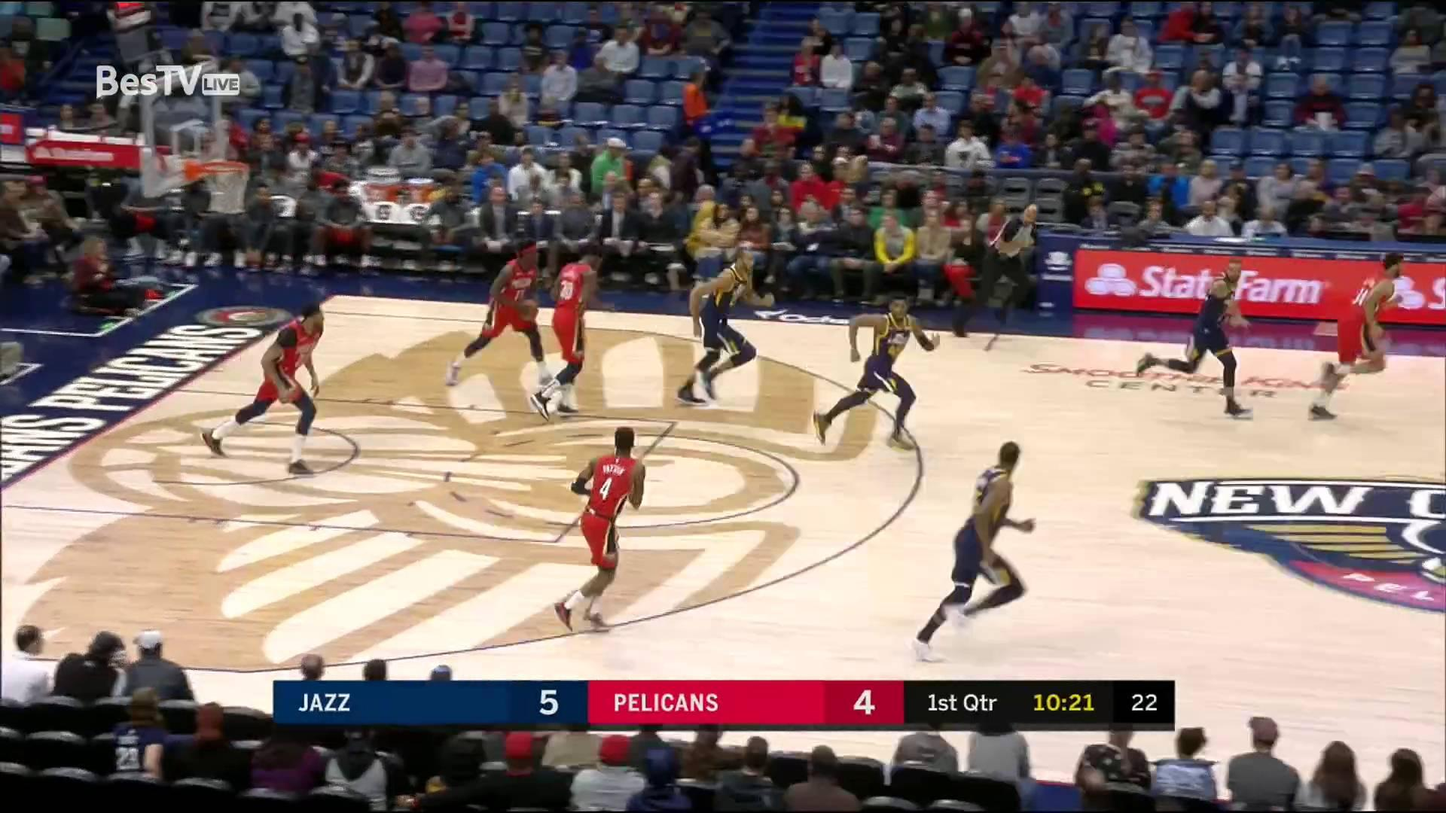basketball: (518, 299, 540, 324)
